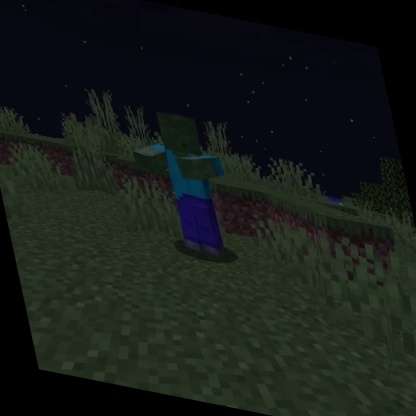zombie: (118, 99, 249, 268)
